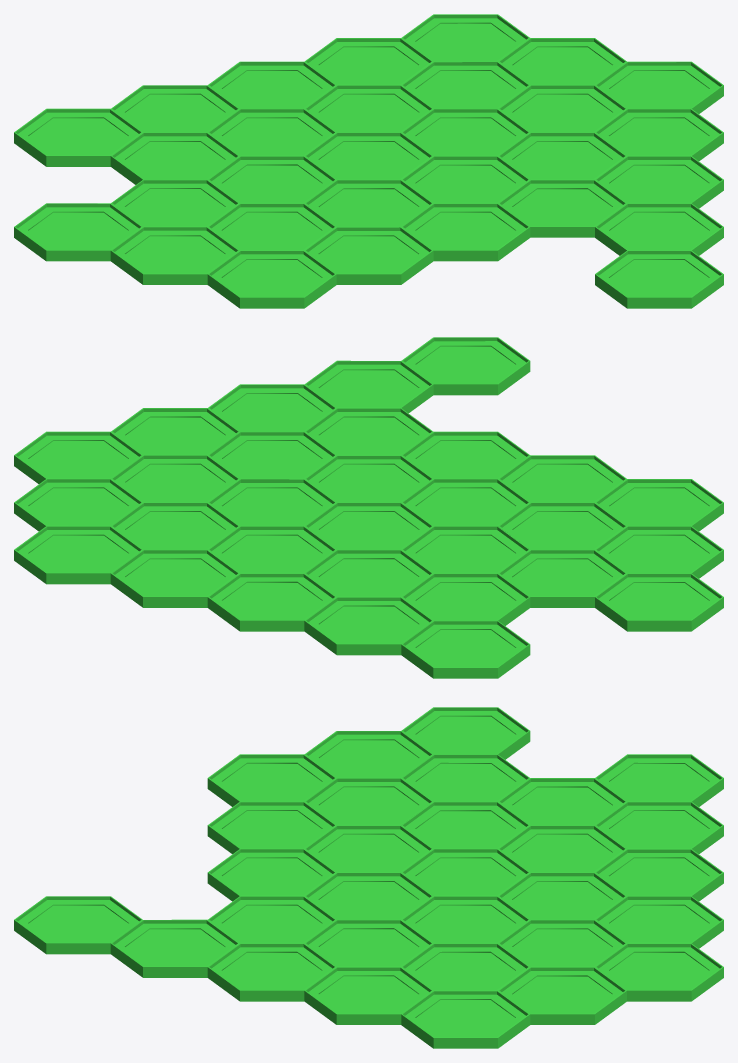
File: MoldInsertStage1_1.fbx
The picture shows the model from 3 angles, top to bottom: view 1: azimuth 30°, elevation 25°; view 2: azimuth 150°, elevation 25°; view 3: azimuth 270°, elevation 25°; orthographic projection.
Visible parts, largest first — view 1: MoldInsertStage1_1; view 2: MoldInsertStage1_1; view 3: MoldInsertStage1_1.
Part boxes in pixels (x1,y1,x2,y2): MoldInsertStage1_1: [14, 14, 723, 308]; MoldInsertStage1_1: [14, 337, 723, 678]; MoldInsertStage1_1: [14, 707, 723, 1048].
Bounding box in the file's own units: 1274 × 19.68 × 1156.
